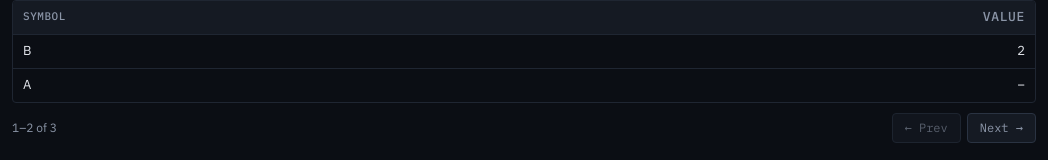
Scenario: DataTable › paginates
Click the button "Next →": (1001,128) [967,112,1036,142]
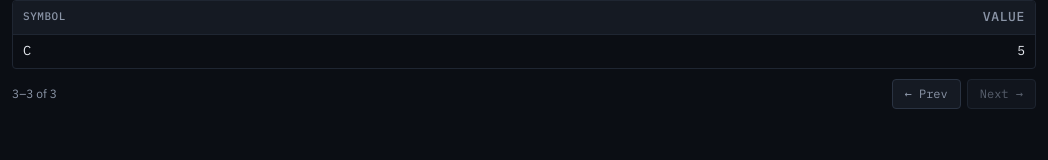
Expected: the text "3–3 of 3" is shown, [12,85,57,102]
